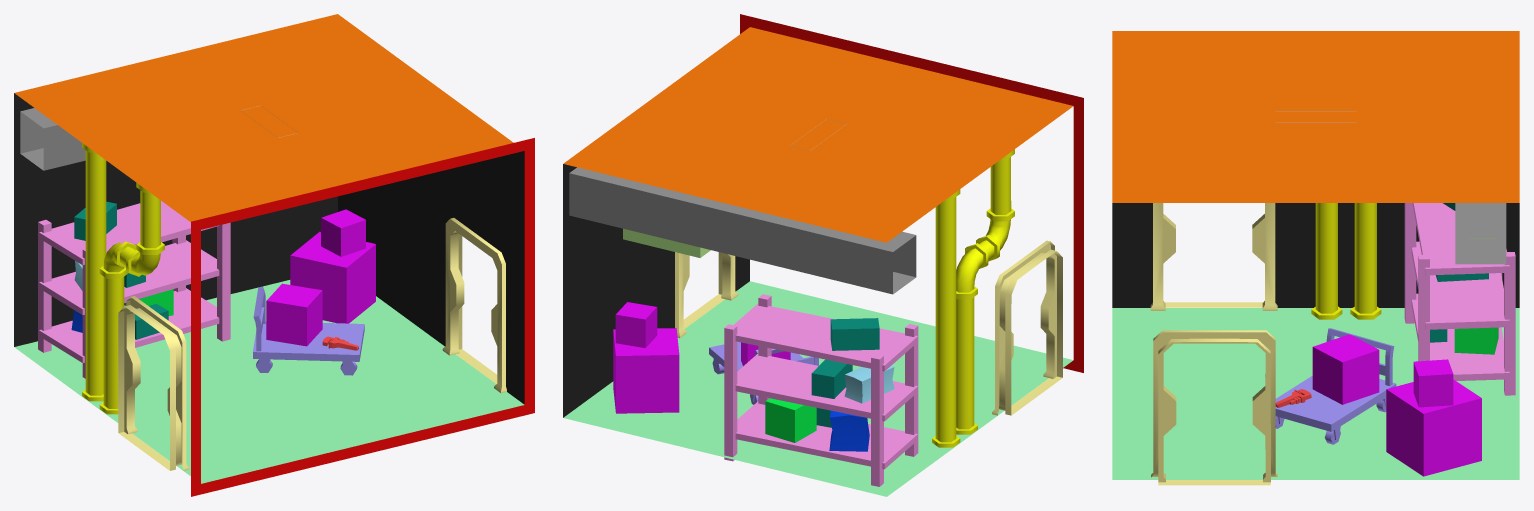
The model's file is test_room_multimat.FBX.
The picture shows the model from 3 angles, left to right: view 1: azimuth 30°, elevation 25°; view 2: azimuth 150°, elevation 25°; view 3: azimuth 270°, elevation 25°; orthographic projection. The views are drawn at different scales.
Visible parts, largest first — view 1: crate_01_low.004_Cube.036; view 2: crate_01_low.004_Cube.036; view 3: crate_01_low.004_Cube.036.
Boxes of the visible parts, x1,y1,x2,y2 form: crate_01_low.004_Cube.036: (14, 14, 534, 496); crate_01_low.004_Cube.036: (563, 14, 1083, 496); crate_01_low.004_Cube.036: (1112, 31, 1519, 485).
Bounding box in the file's own units: 1.4 × 1.07 × 1.32.
